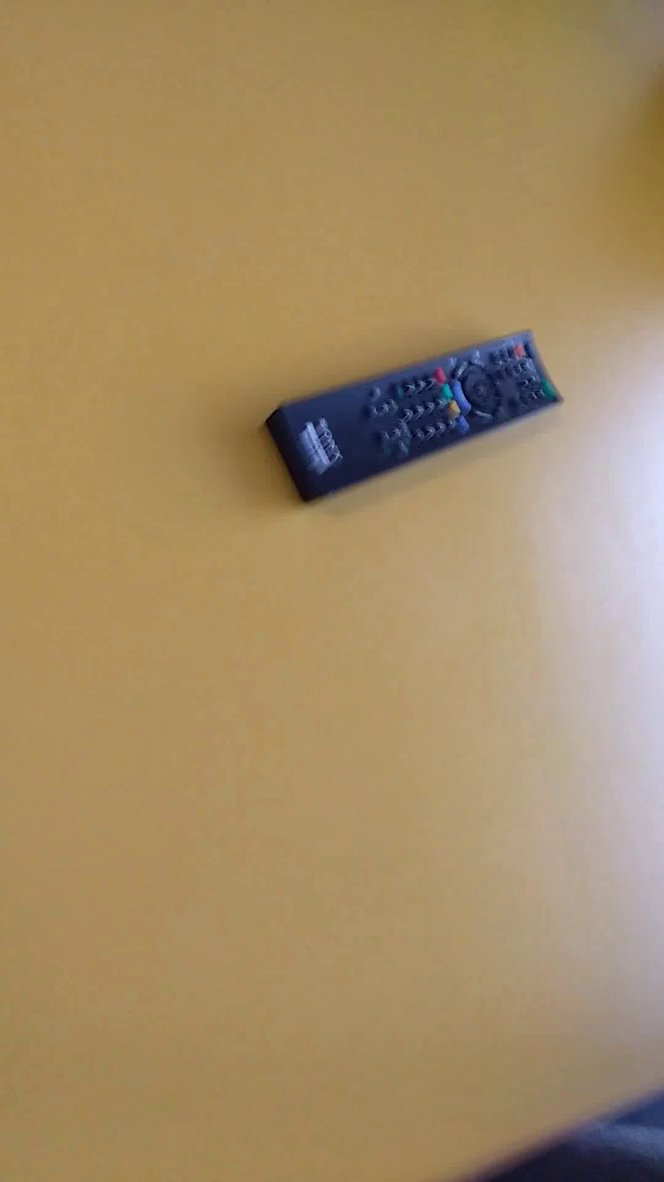remote: (248, 307, 587, 519)
